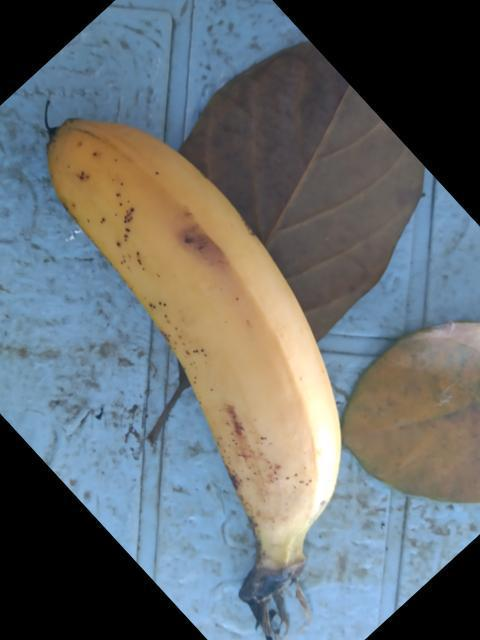ripe: (54, 101, 374, 593)
